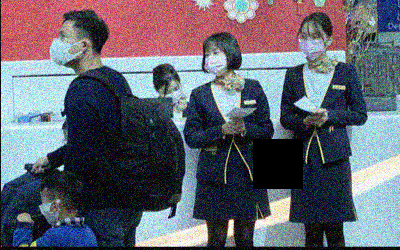with_mask: (48, 29, 81, 67), (298, 30, 325, 60), (203, 47, 228, 78), (158, 82, 182, 104), (38, 196, 56, 224)
